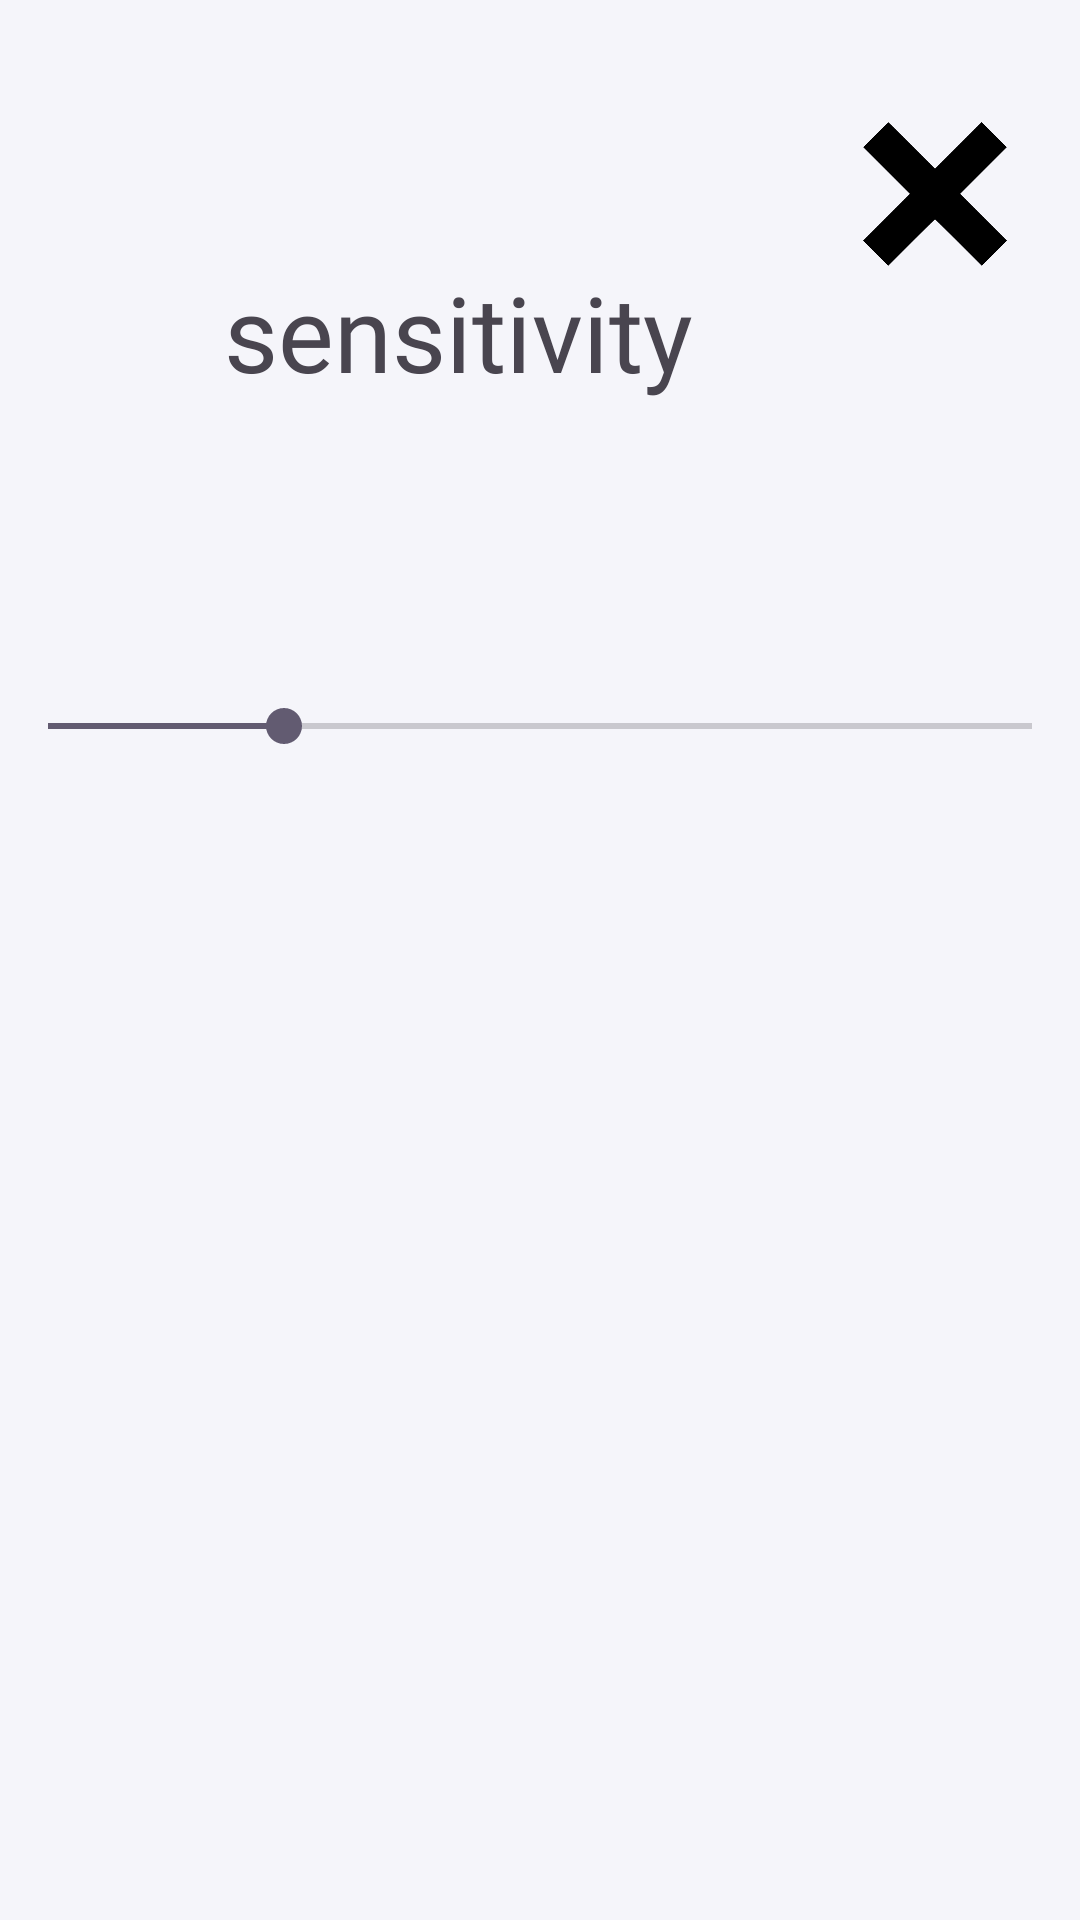

Icon click points for this 1080px×1920px phone screenshot, format (x,y):
closebutton: (935,194)
